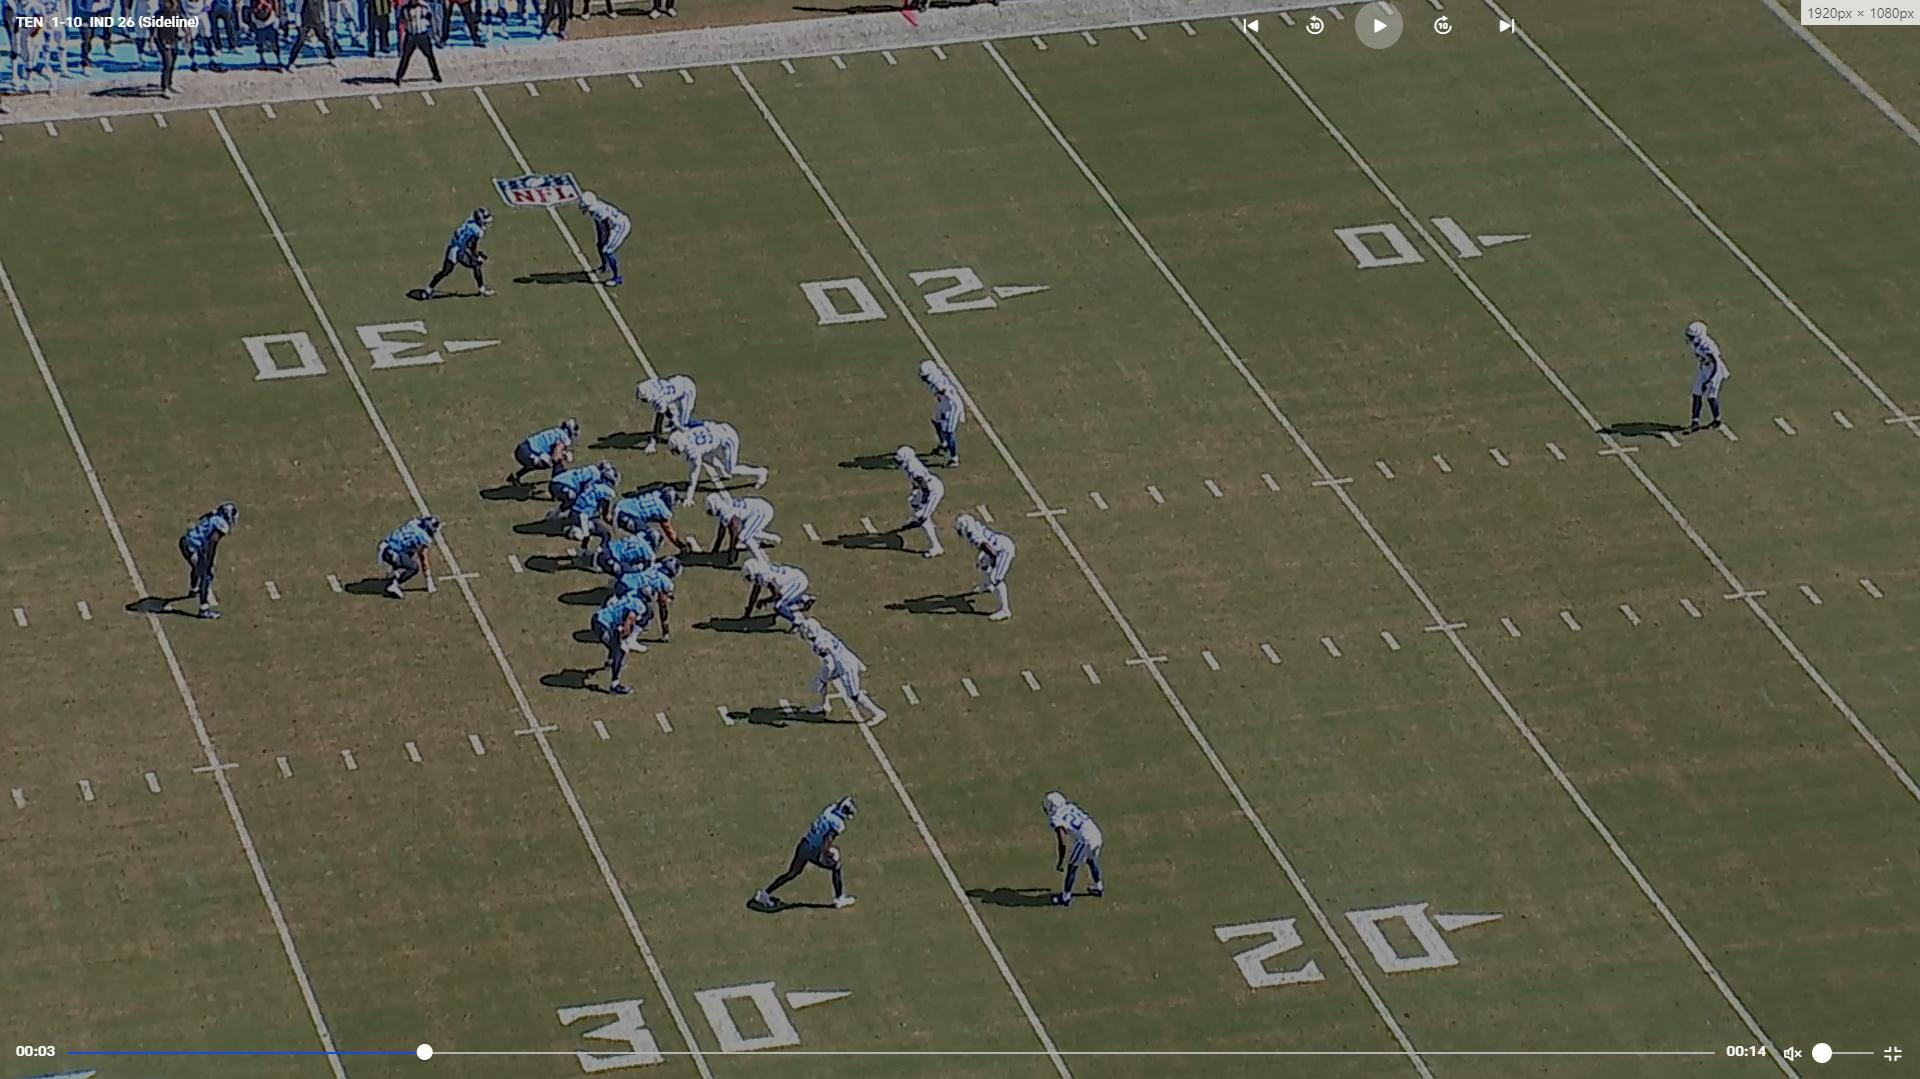center: (620, 484, 673, 543)
db: (796, 615, 874, 718), (1045, 795, 1099, 904), (586, 193, 632, 281), (1696, 318, 1729, 419)
lb: (968, 513, 1021, 611), (895, 450, 939, 552), (926, 357, 960, 462)
qb: (570, 472, 616, 550)
skill: (796, 796, 861, 897), (185, 499, 228, 617), (428, 211, 488, 293), (606, 594, 652, 691), (387, 512, 442, 590)
